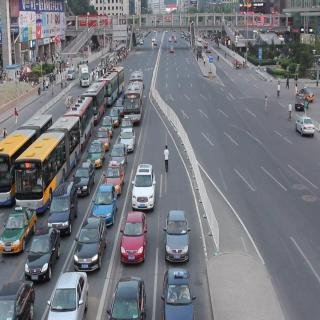BigCar: (13, 104, 74, 205), (77, 70, 107, 114), (67, 86, 90, 140), (106, 63, 123, 98), (127, 73, 140, 115)
Car: (78, 206, 104, 271), (50, 271, 84, 320), (117, 275, 152, 320), (164, 264, 193, 316), (164, 210, 188, 255), (132, 158, 154, 204), (31, 231, 57, 269), (92, 176, 113, 222), (122, 211, 145, 251), (102, 158, 122, 194), (293, 116, 317, 139)
